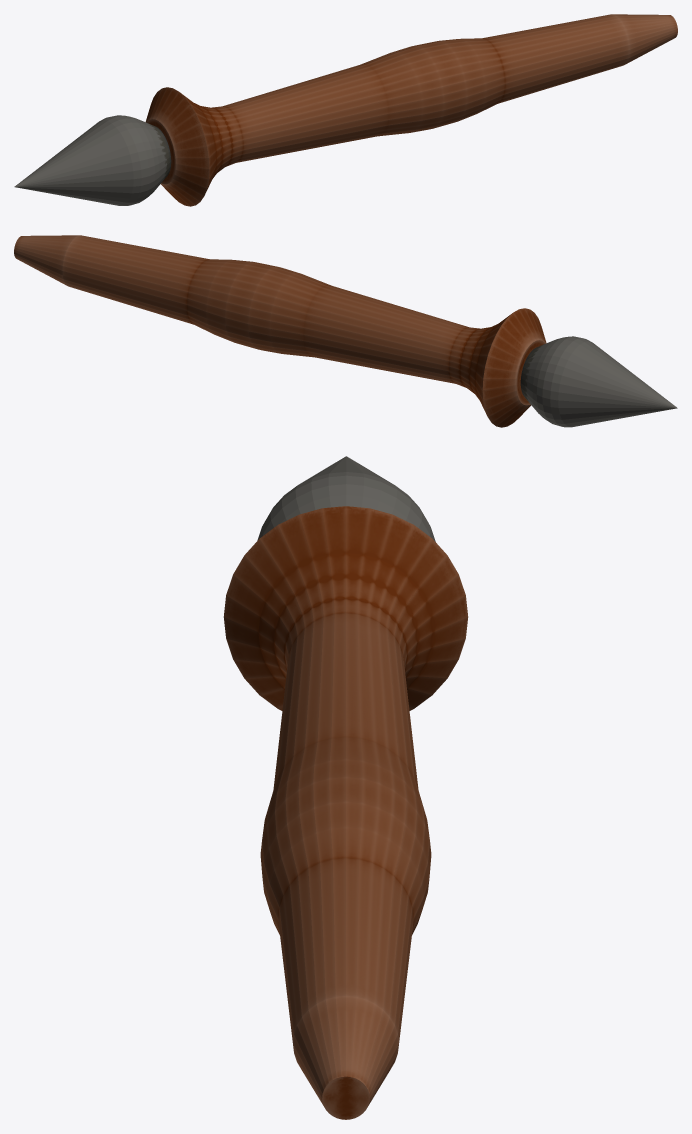
The model's file is pen.gltf.
3 views of the same model, one above another, from view 1: azimuth 30°, elevation 25°; view 2: azimuth 150°, elevation 25°; view 3: azimuth 270°, elevation 25° (orthographic). The views are drawn at different scales.
Visible parts, largest first — view 1: Cylinder, Cone; view 2: Cylinder, Cone; view 3: Cylinder, Cone.
Part boxes in pixels (<box>): Cylinder: <box>145,14,677,206</box>; Cone: <box>14,115,171,205</box>; Cylinder: <box>14,235,546,427</box>; Cone: <box>520,336,677,427</box>; Cylinder: <box>223,506,468,1119</box>; Cone: <box>257,456,435,541</box>.
Bounding box in the file's own units: 105 × 16.86 × 16.86.
1 material, 1 textured.
